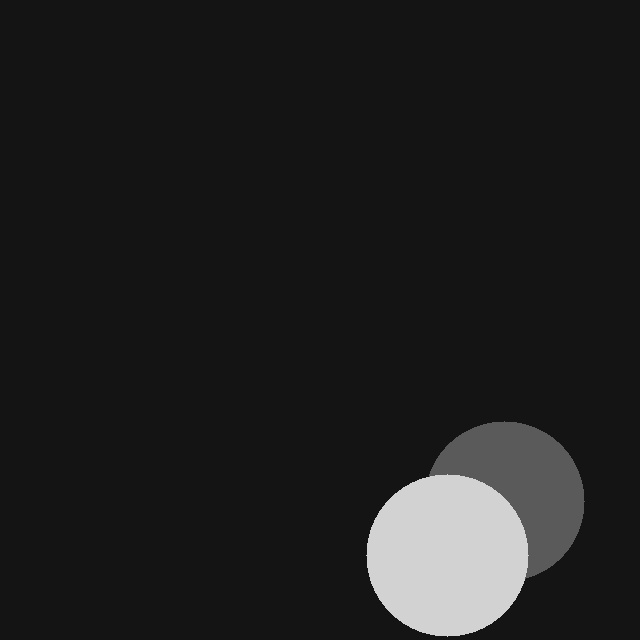circle: (366, 474, 528, 636), (424, 421, 584, 581)
triangle: (449, 492, 522, 565)
